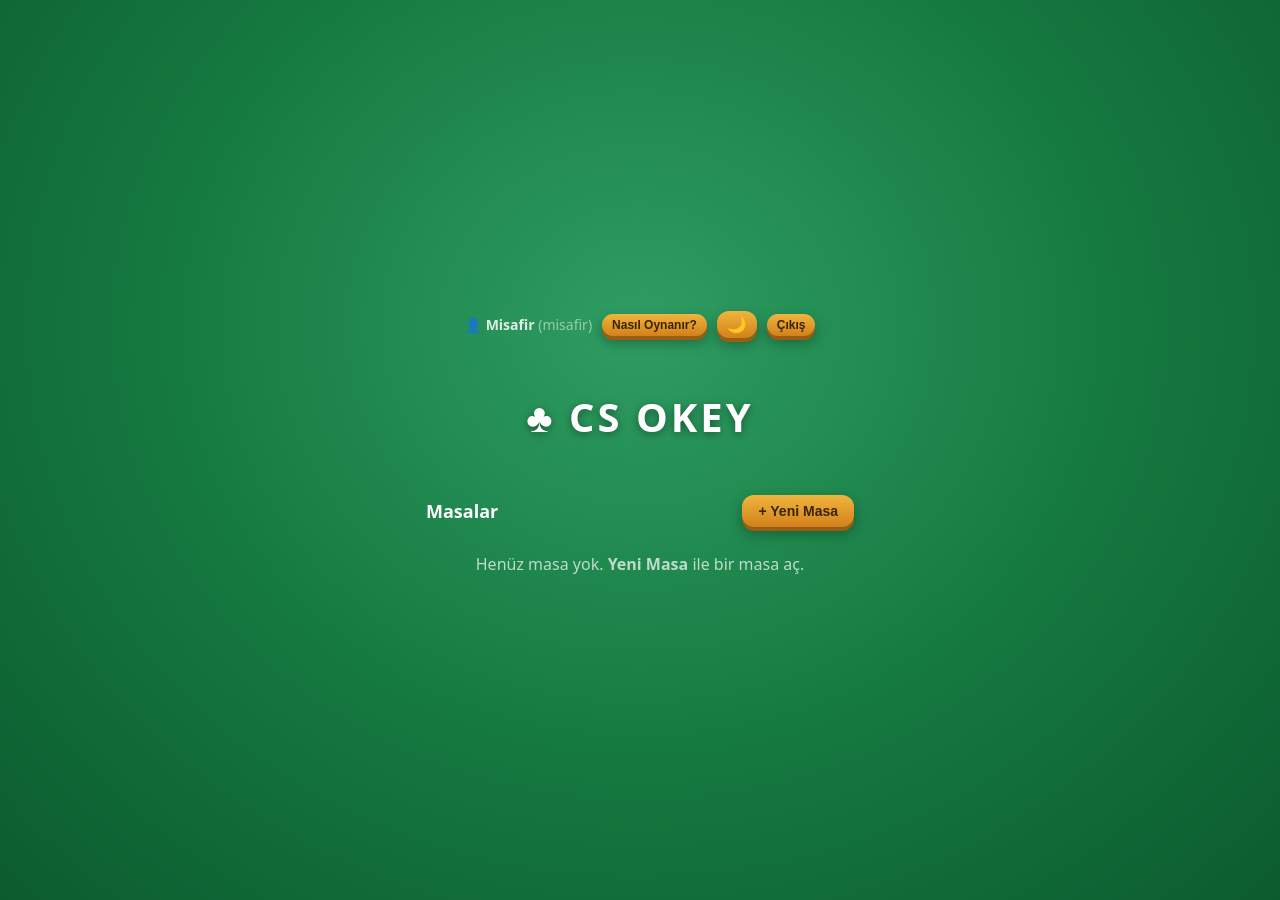
App + lobby integration › opens a 101 table from the lobby and deals a 22-tile rack
Expected: the text "Masalar" is shown, 426,499 -> 498,523
Click the button "+ Yeni Masa": click(798, 511) 742,495 -> 854,527
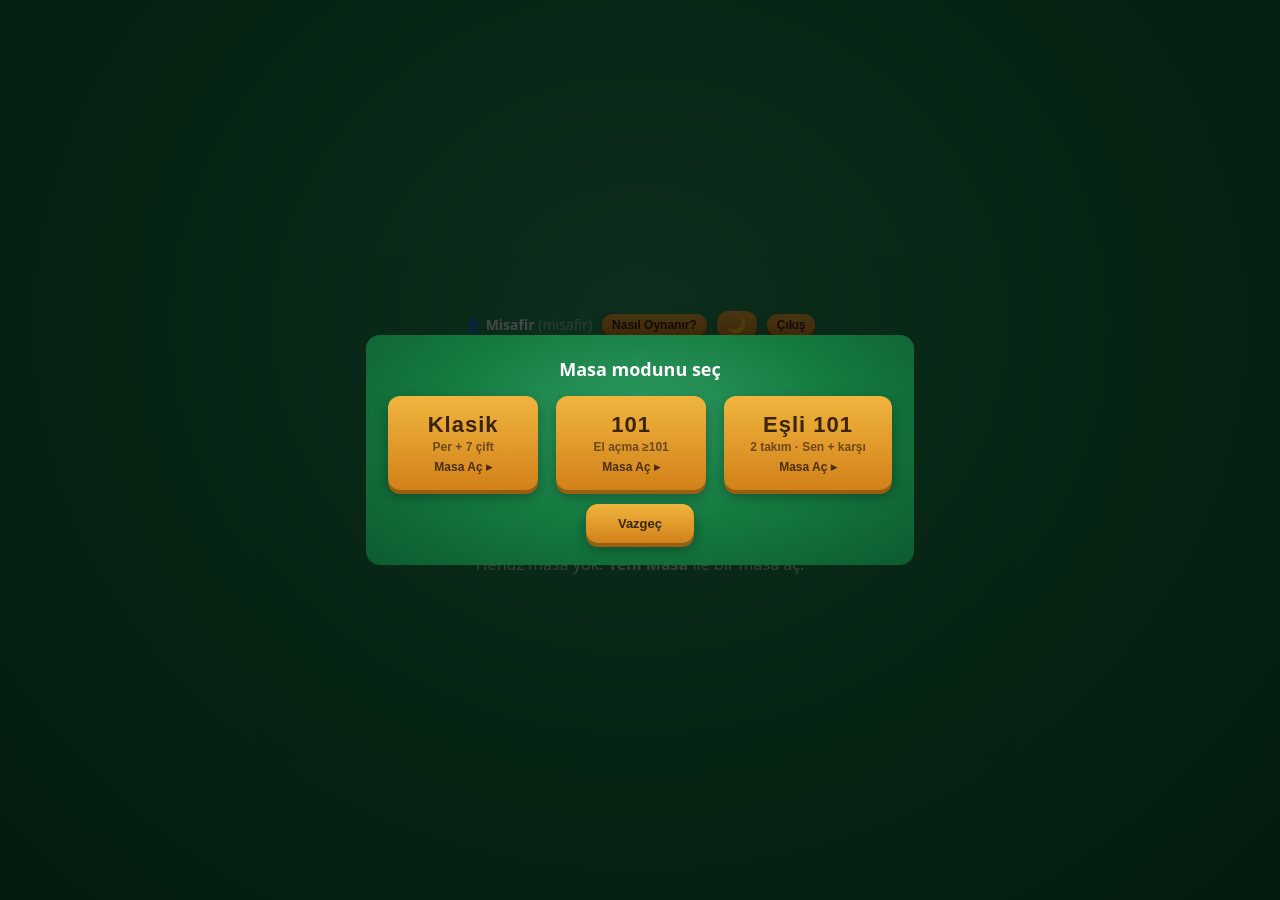
Click the button "101 El açma ≥101 Masa Aç ▸": click(631, 443) 556,396 -> 706,490
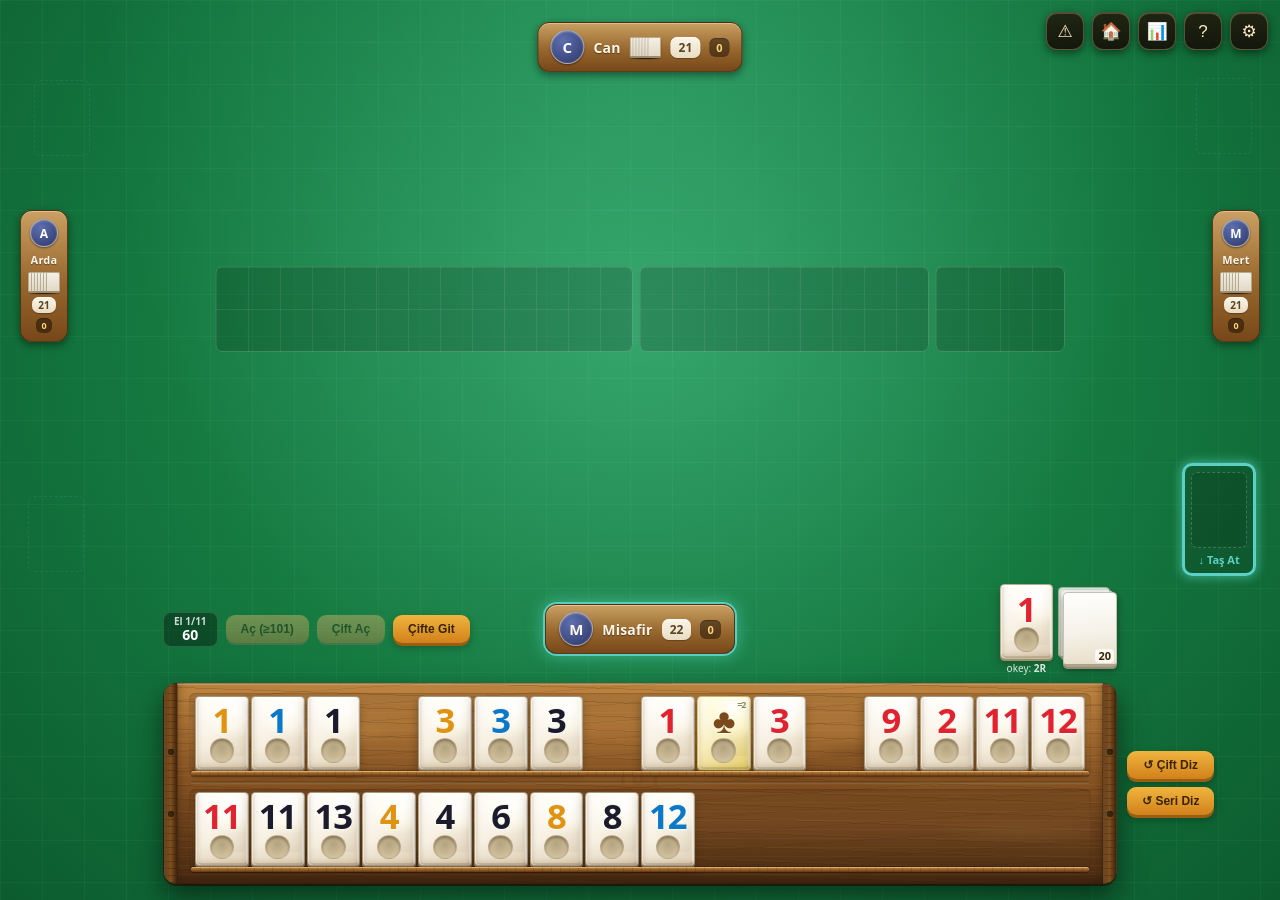
Result: the number of buttons with test id "tile" is 22
